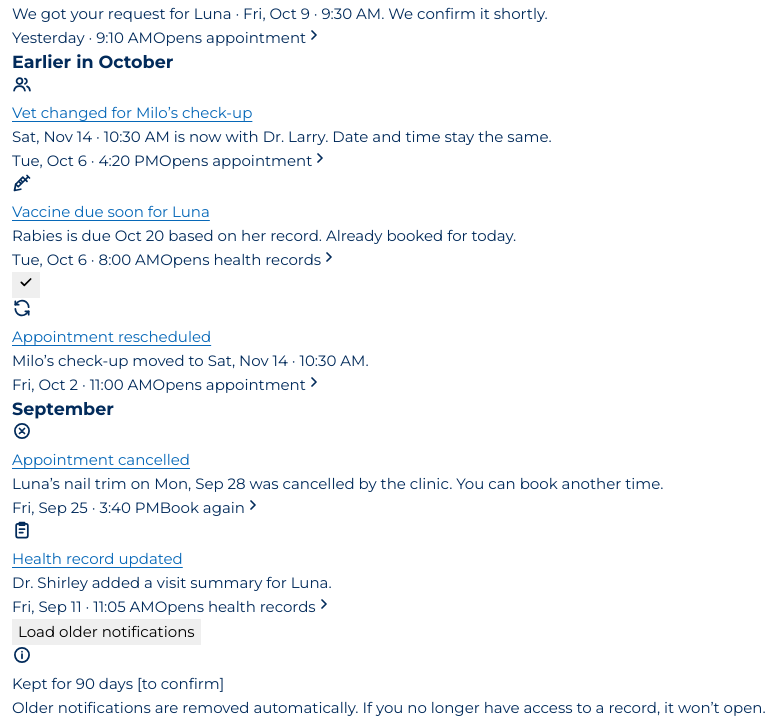
Test case: NotificationsPage › loads the older notifications once
(page scrolled)
Step 1. Click the button "Load older notifications" → (106, 632), box [12,619,201,645]
(page scrolled)
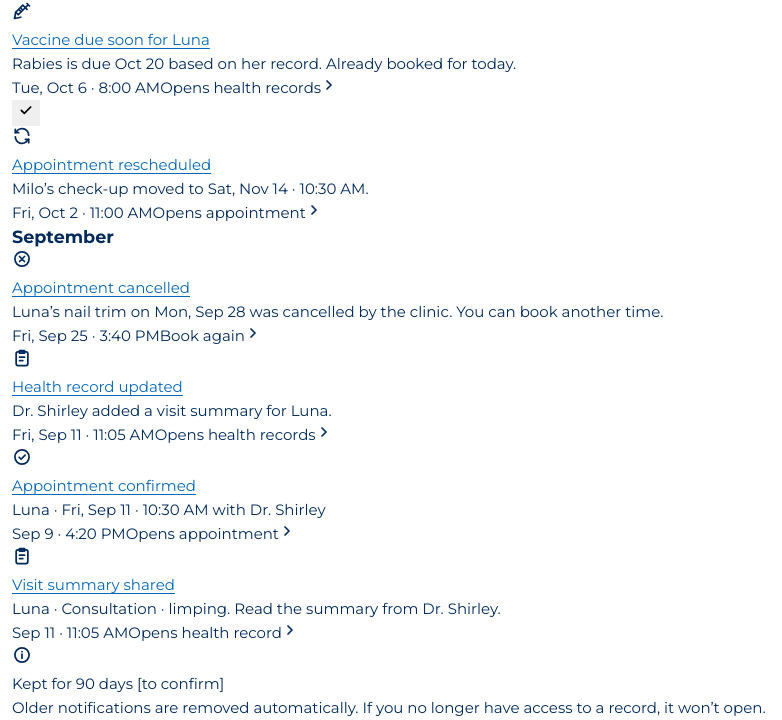
Expected: the link "Visit summary shared" is shown, [12,575,175,594]
Expected: the button "Load older notifications" is gone
